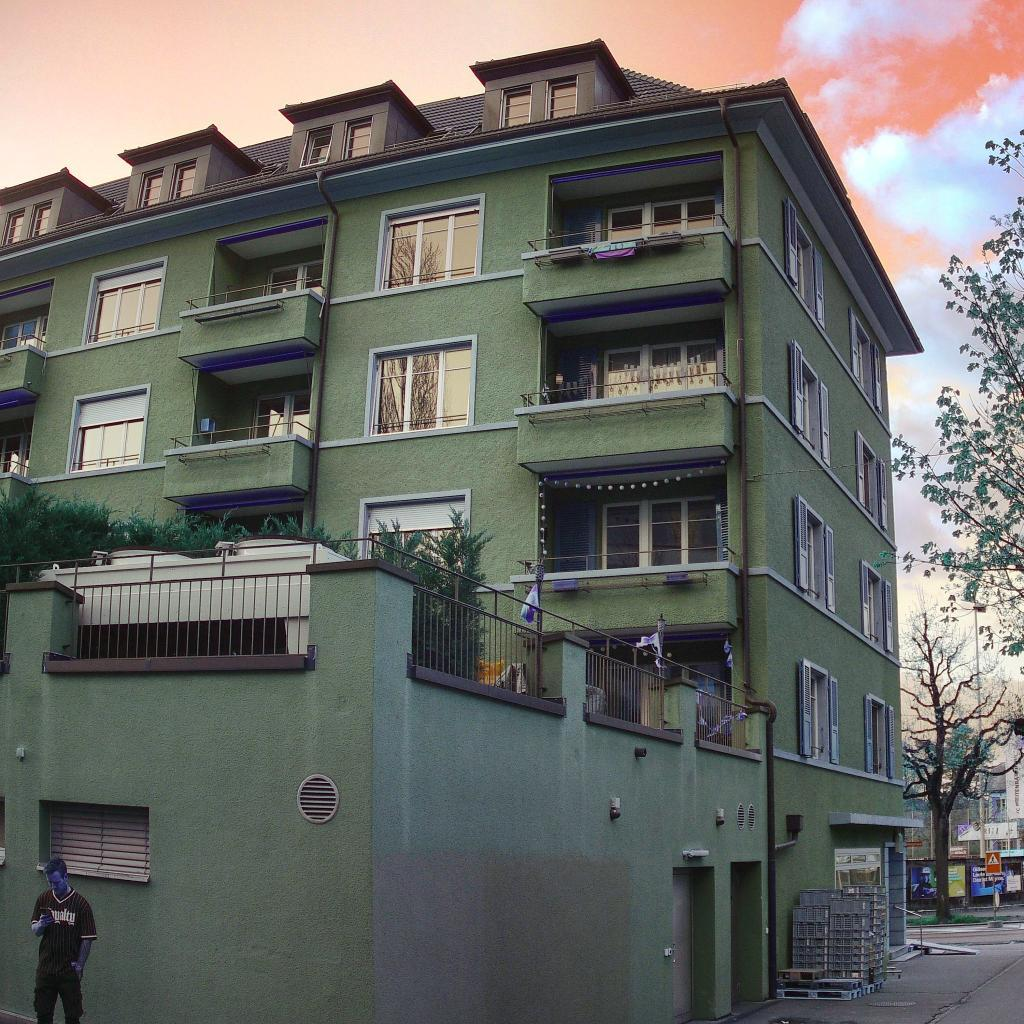balcony-fence: (525, 213, 731, 251), (519, 372, 732, 407), (515, 546, 737, 575), (184, 276, 325, 310), (169, 421, 313, 448), (0, 333, 46, 352), (0, 460, 30, 479)
facade: (0, 37, 926, 1024), (905, 762, 1024, 913)
fence: (0, 537, 773, 1024), (950, 858, 992, 910), (907, 857, 935, 911), (996, 857, 1024, 907)
non-building-infrastructure: (775, 885, 902, 1001)
shop: (834, 847, 881, 890)
street: (685, 920, 1024, 1024), (997, 905, 1024, 920), (951, 908, 992, 916), (914, 911, 936, 916)
traffic-infrastructure: (972, 602, 987, 858), (985, 850, 1002, 922)
vegetation: (873, 127, 1024, 926), (0, 477, 354, 563), (368, 502, 496, 584), (997, 916, 1013, 920)
window: (602, 489, 728, 569), (370, 344, 471, 437), (380, 203, 480, 291), (604, 333, 726, 397), (49, 804, 150, 875), (86, 264, 164, 345), (69, 393, 146, 474), (783, 196, 826, 331), (790, 338, 831, 469), (607, 194, 716, 240), (794, 493, 835, 614), (797, 657, 840, 765), (364, 495, 465, 537), (848, 306, 883, 415), (856, 428, 888, 531), (553, 501, 598, 572), (860, 558, 893, 654), (864, 692, 895, 778), (557, 348, 599, 402), (255, 389, 310, 427), (0, 315, 49, 351), (298, 124, 335, 169), (562, 206, 603, 246), (498, 83, 533, 129), (544, 74, 578, 120), (268, 258, 324, 285), (341, 115, 374, 160), (677, 657, 732, 684), (0, 432, 33, 476), (168, 158, 198, 200), (136, 167, 165, 209), (27, 199, 53, 238), (1, 207, 26, 247), (715, 186, 724, 226), (638, 664, 659, 674)
